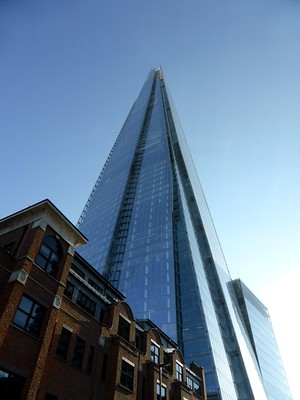medium: (57, 64, 273, 400)
